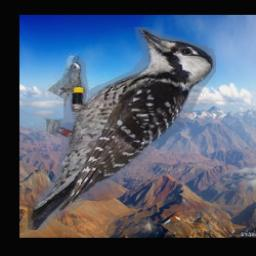Woodpecker: (28, 28, 216, 231)
